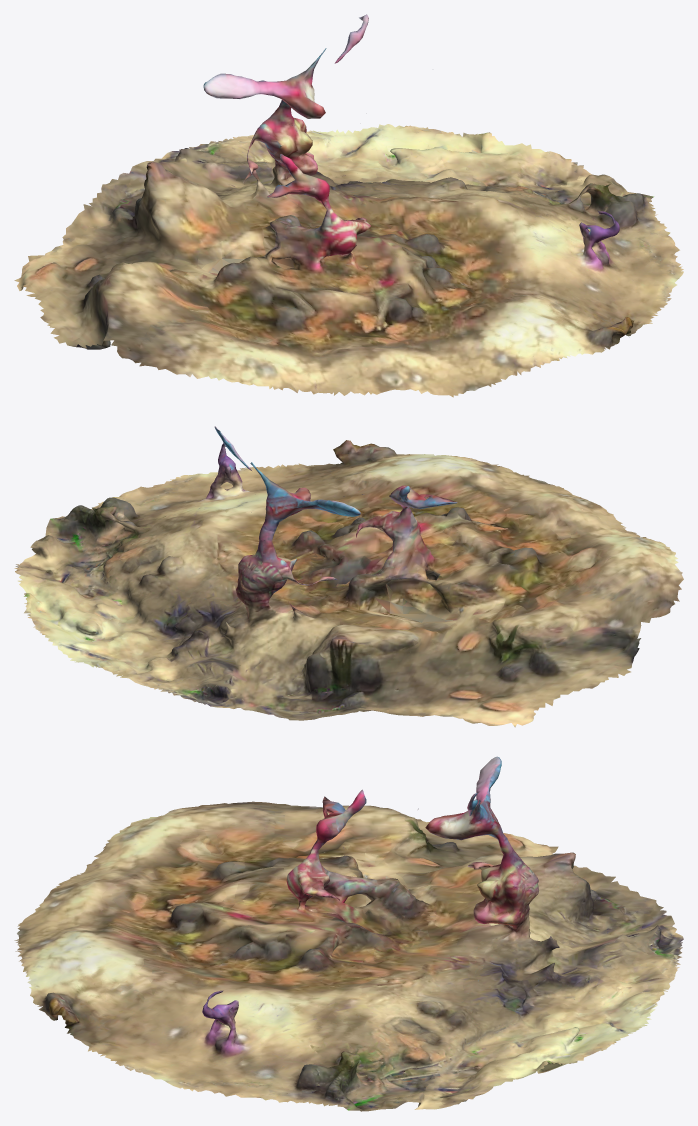
File: learntodance.glb
3 renders of one model, top to bottom at view 1: azimuth 30°, elevation 25°; view 2: azimuth 150°, elevation 25°; view 3: azimuth 270°, elevation 25°, orthographic. The views are drawn at different scales.
Parts seen in each view (by area): view 1: learntodance_2; view 2: learntodance_2; view 3: learntodance_2.
Part boxes in pixels (x1,y1,x2,y2): learntodance_2: (14, 14, 683, 397); learntodance_2: (14, 426, 683, 727); learntodance_2: (14, 756, 683, 1111).
Bounding box in the file's own units: 8.53 × 2.85 × 8.01.
1 material, 1 textured.
